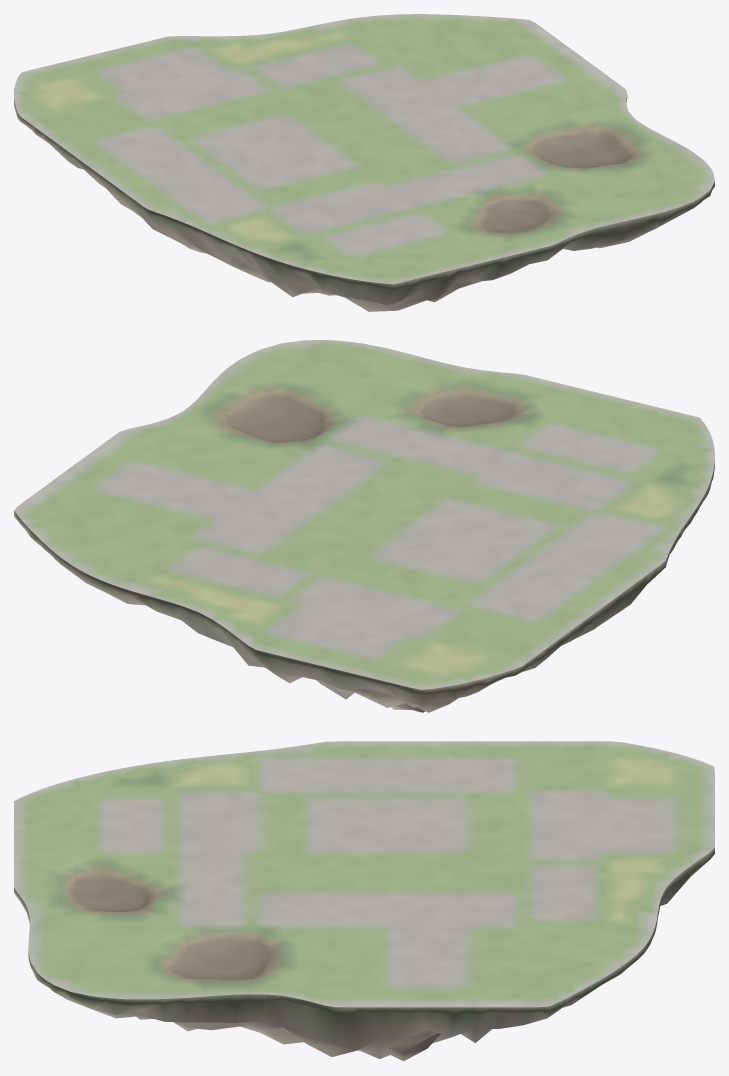
The model's file is SKY-002.rock.glb.
3 renders of one model, top to bottom at view 1: azimuth 30°, elevation 25°; view 2: azimuth 150°, elevation 25°; view 3: azimuth 270°, elevation 25°, orthographic. The views are drawn at different scales.
Visible parts, largest first — view 1: deck-col, rock; view 2: deck-col, rock; view 3: deck-col, rock.
Part boxes in pixels (box(x1,y1,x2,y2)): deck-col: box(14, 14, 714, 284); rock: box(14, 94, 714, 311); deck-col: box(14, 340, 714, 689); rock: box(14, 462, 714, 712); deck-col: box(14, 741, 714, 1007); rock: box(14, 848, 714, 1061).
Bounding box in the file's own units: 158 × 40.57 × 176.
